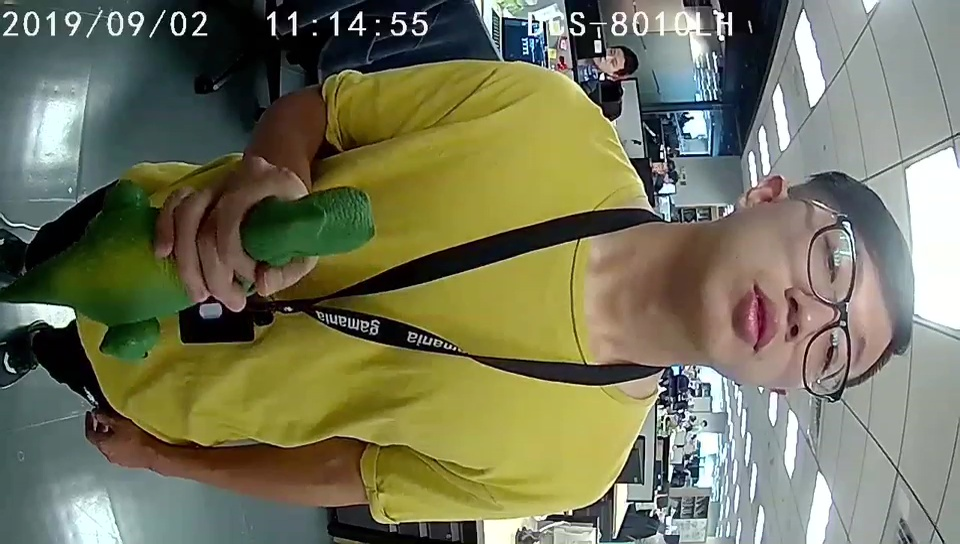rex: (85, 183, 373, 363)
